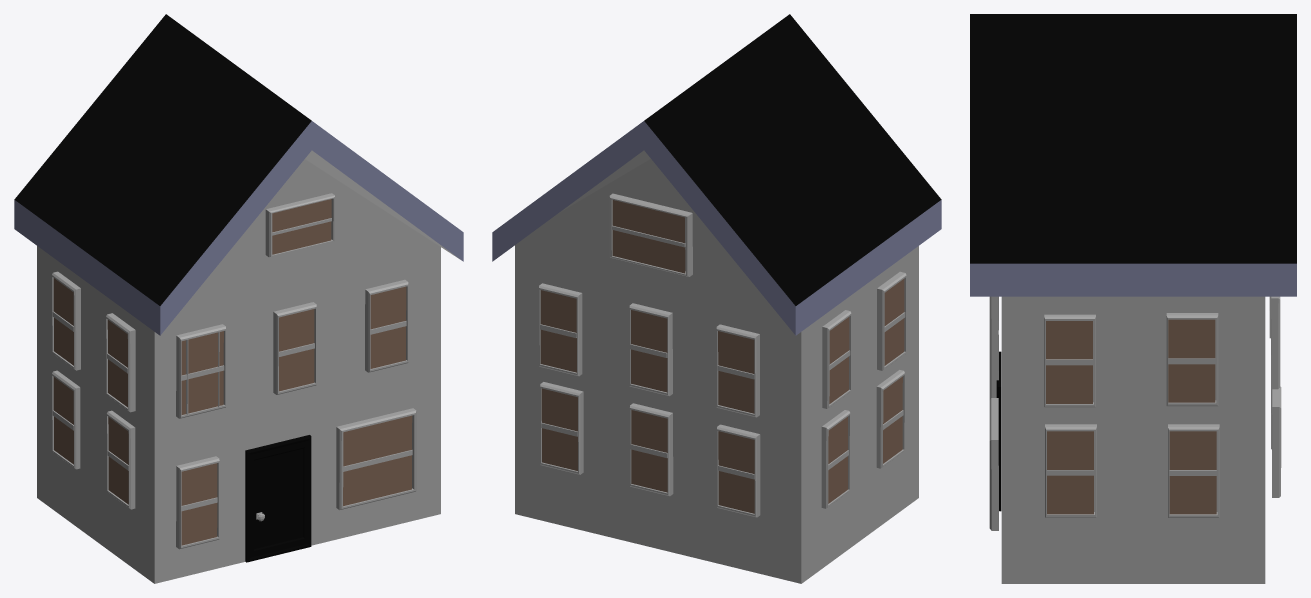
Rendered from Farmhouse4.fbx.
3 views of the same model, side by side, from view 1: azimuth 30°, elevation 25°; view 2: azimuth 150°, elevation 25°; view 3: azimuth 270°, elevation 25° (orthographic). The views are drawn at different scales.
Parts seen in each view (by area): view 1: pCube141, pSphere20, polySurface435, polySurface439, polySurface437, polySurface436, polySurface440, polySurface450, polySurface453, polySurface456, polySurface454, polySurface455 (+1 smaller); view 2: pCube141, polySurface452, polySurface451, polySurface449, polySurface446, polySurface445, polySurface447, polySurface448, polySurface453, polySurface454, polySurface455, polySurface456; view 3: pCube141, polySurface442, polySurface444, polySurface443, polySurface441, polySurface435, polySurface447, polySurface446, polySurface437, pSphere20.
Boxes of the visible parts, x1,y1,x2,y2 form: pCube141: (14,14,463,583); pSphere20: (245,435,311,562); polySurface435: (336,408,416,510); polySurface439: (273,302,316,394); polySurface437: (365,279,408,372); polySurface436: (176,456,219,549); polySurface440: (265,193,334,257); polySurface450: (183,324,225,415); polySurface453: (106,313,135,412); polySurface456: (106,410,135,509); polySurface454: (52,271,80,370); polySurface455: (52,370,80,469); pCube141: (492,14,941,583); polySurface452: (609,193,692,276); polySurface451: (717,424,760,517); polySurface449: (716,324,759,417); polySurface446: (539,283,582,376); polySurface445: (629,303,672,396); polySurface447: (540,382,583,474); polySurface448: (629,403,673,496); polySurface453: (877,271,906,370); polySurface454: (822,310,851,408); polySurface455: (821,410,850,508); polySurface456: (876,370,904,468); pCube141: (970,14,1296,583); polySurface442: (1166,313,1218,406); polySurface444: (1168,424,1219,517); polySurface443: (1045,424,1096,517); polySurface441: (1044,314,1095,407); polySurface435: (989,398,998,530); polySurface447: (1272,386,1281,497); polySurface446: (1271,296,1280,389); polySurface437: (989,296,998,380); pSphere20: (996,351,1001,511).
Bounding box in the file's own units: 63.14 × 87.22 × 52.56.
